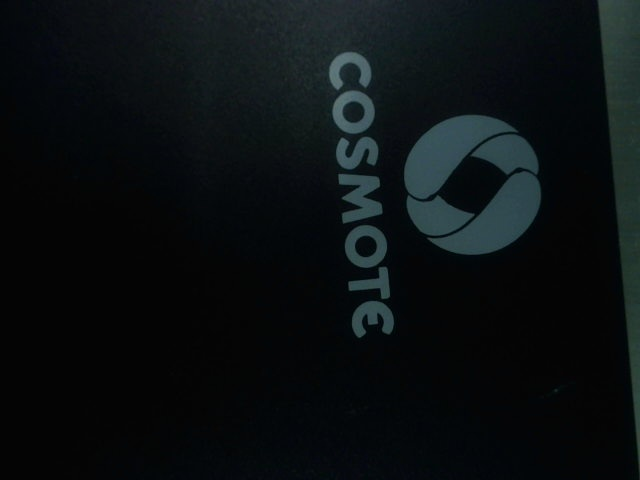AU_COSMOTE: (302, 36, 555, 339)
